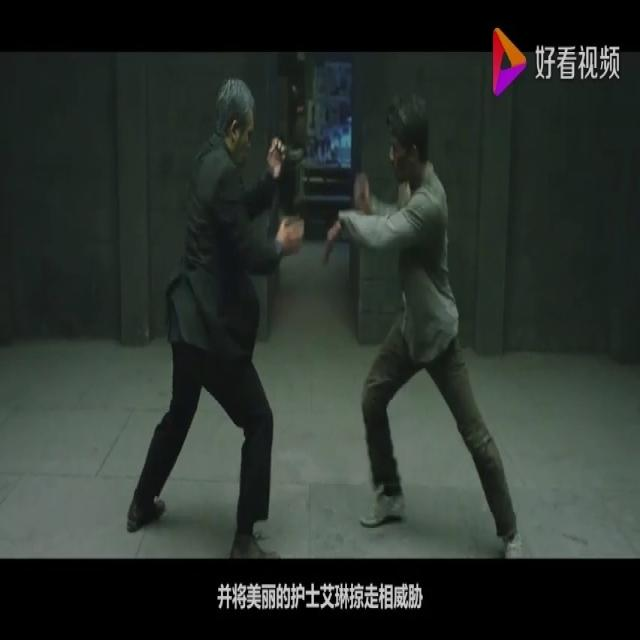fight: (124, 88, 515, 560)
